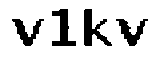1: (48, 8, 76, 49)
k: (82, 7, 113, 50)
v: (7, 15, 43, 49), (116, 17, 147, 49)
